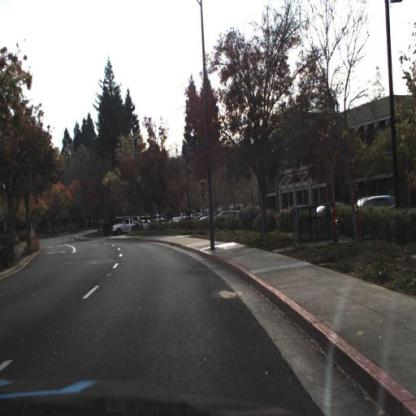car: (111, 215, 152, 236), (358, 194, 397, 209)
